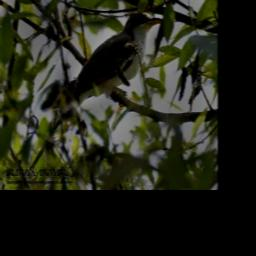Cuckoo: (31, 11, 164, 170)
